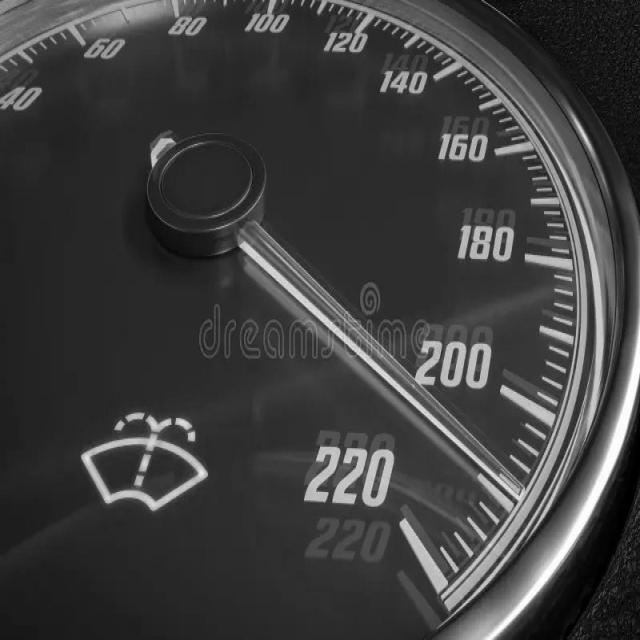Washer Fluid: (82, 411, 212, 510)
